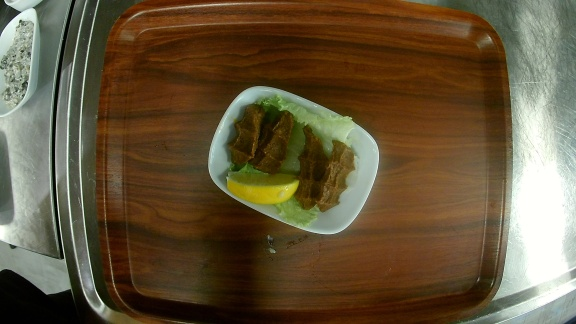cigkofte: (209, 86, 381, 234)
